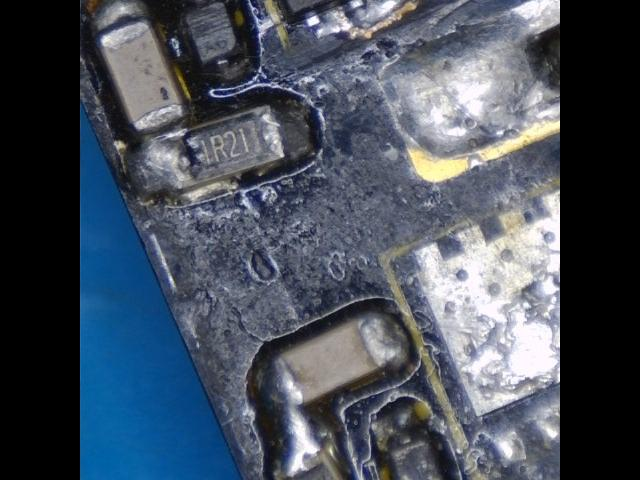Short_circuit: (368, 1, 561, 182), (258, 356, 333, 479), (124, 104, 196, 198)
